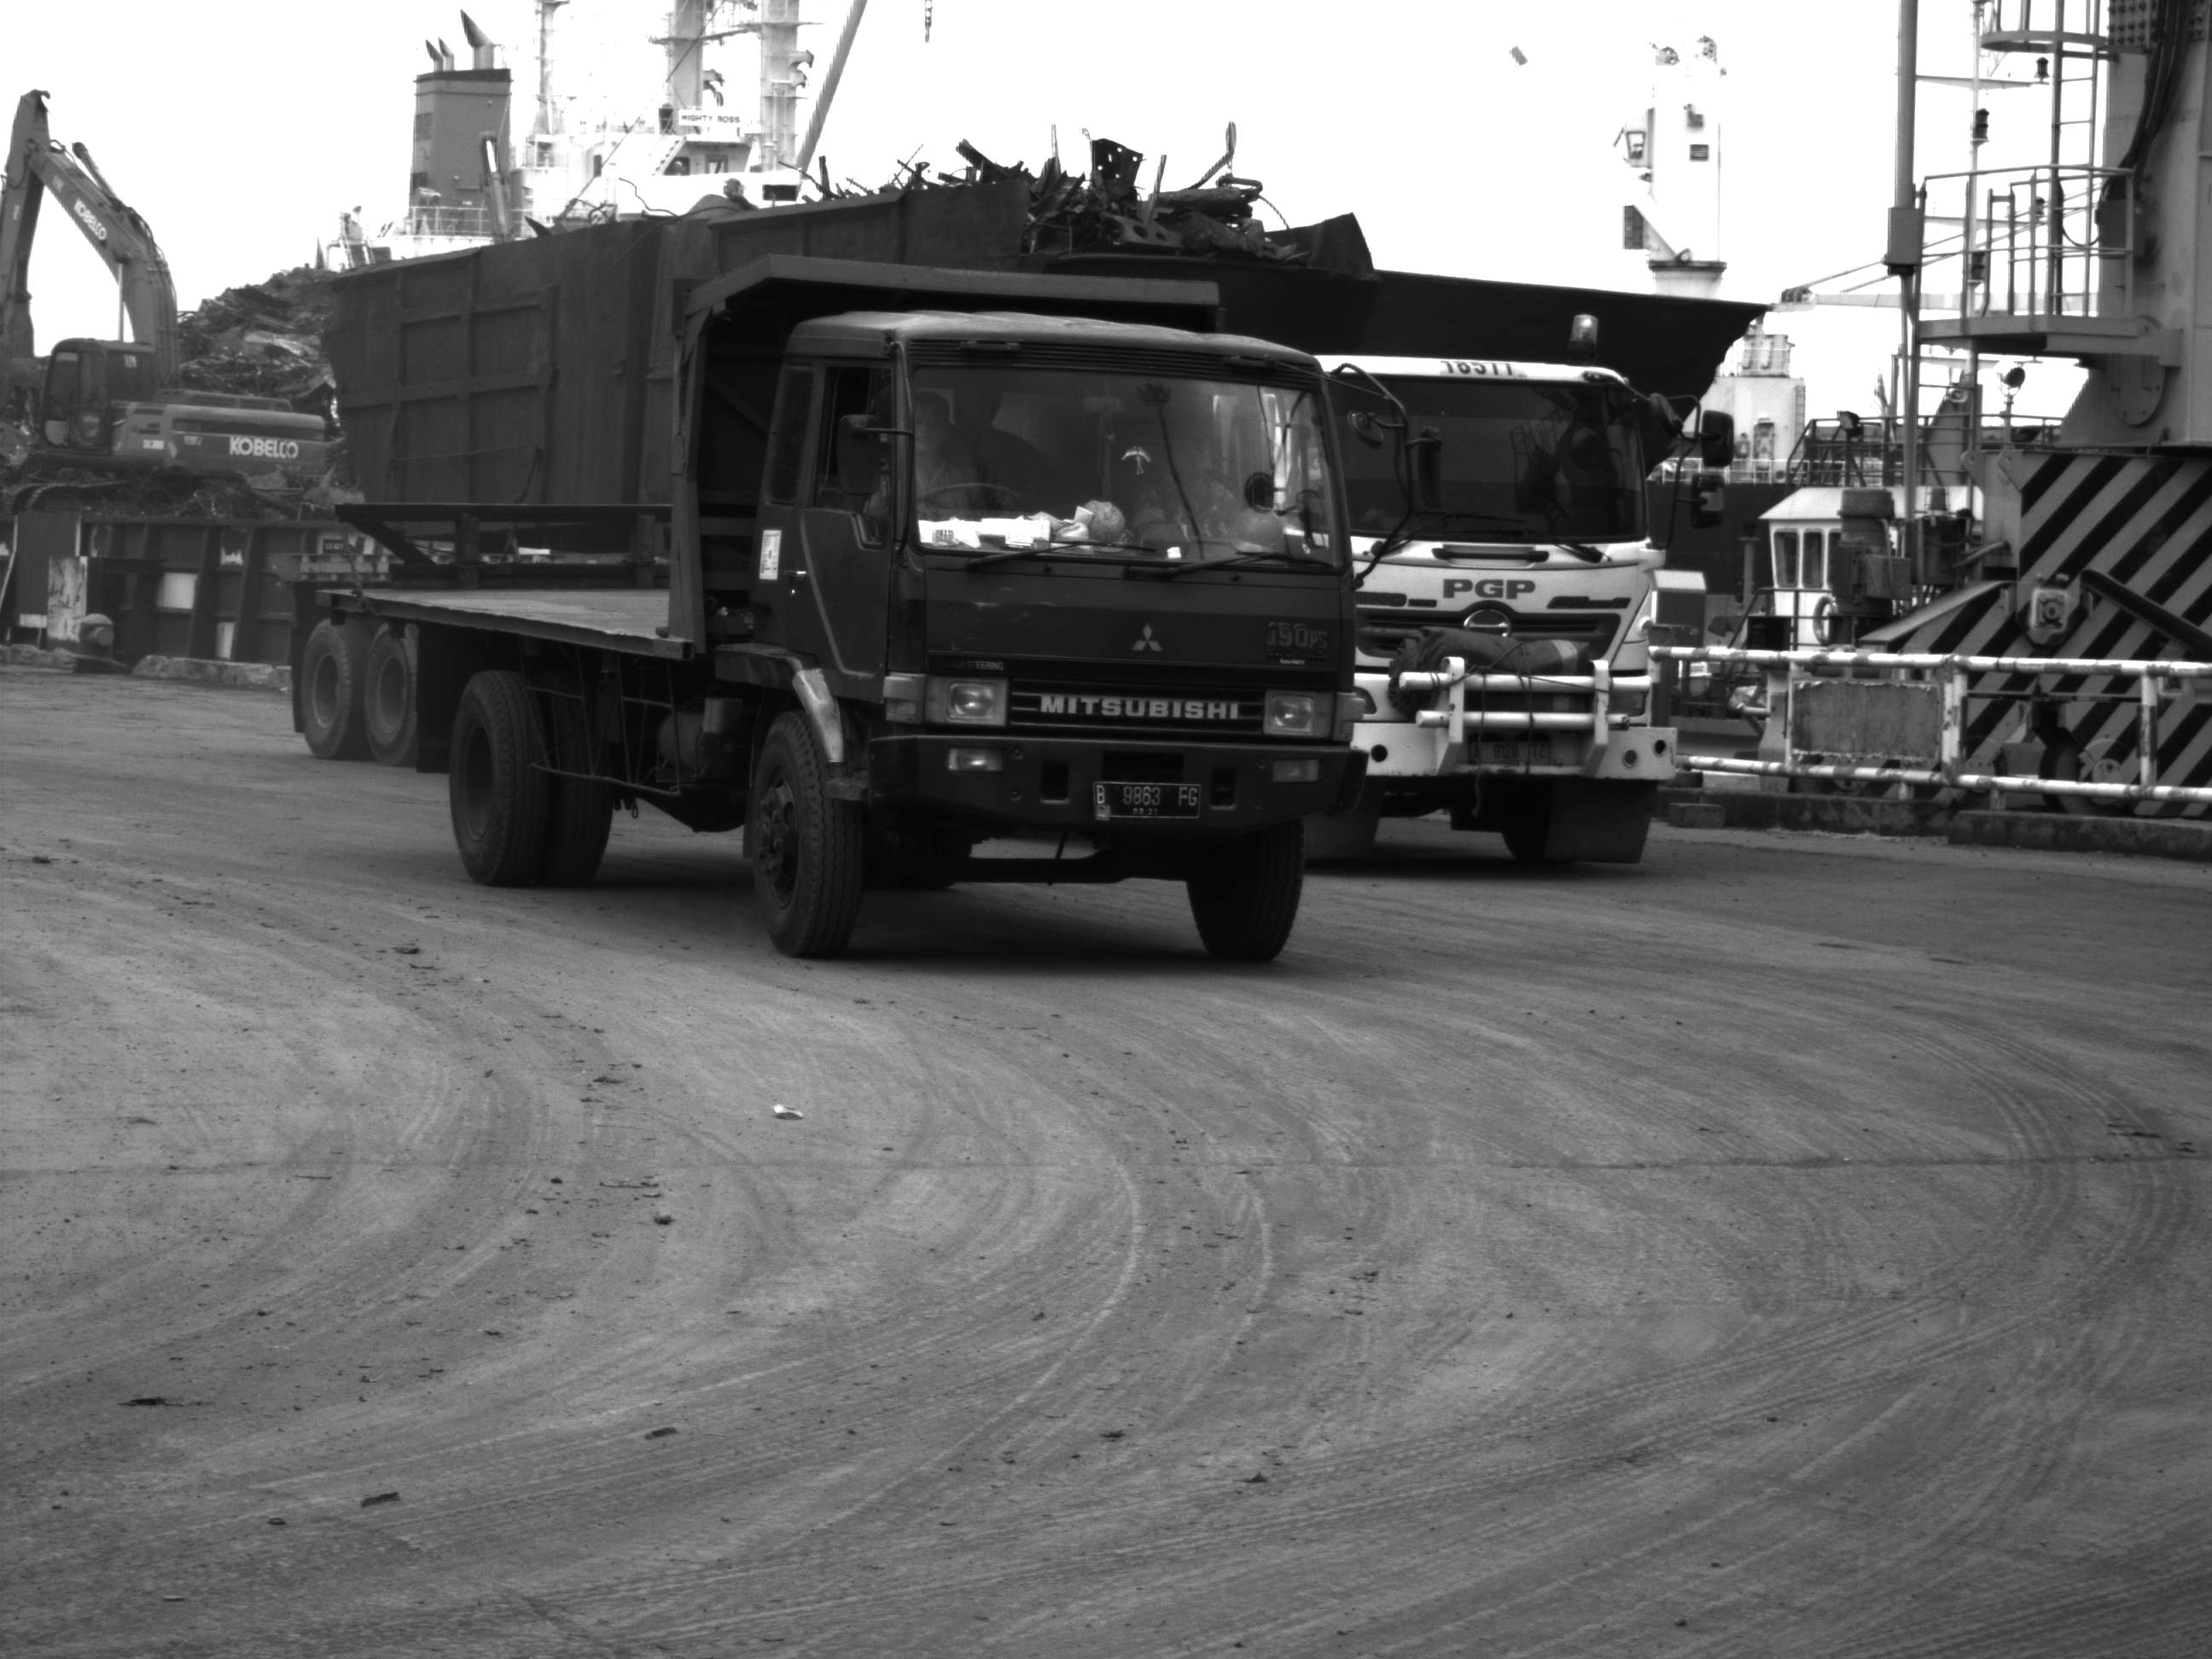day_truck_front: (713, 295, 1370, 963), (1303, 346, 1702, 866)
plate: (1086, 777, 1211, 824), (1469, 735, 1592, 770)
